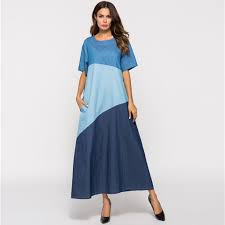middle_eastern_Female: (94, 4, 114, 34)
